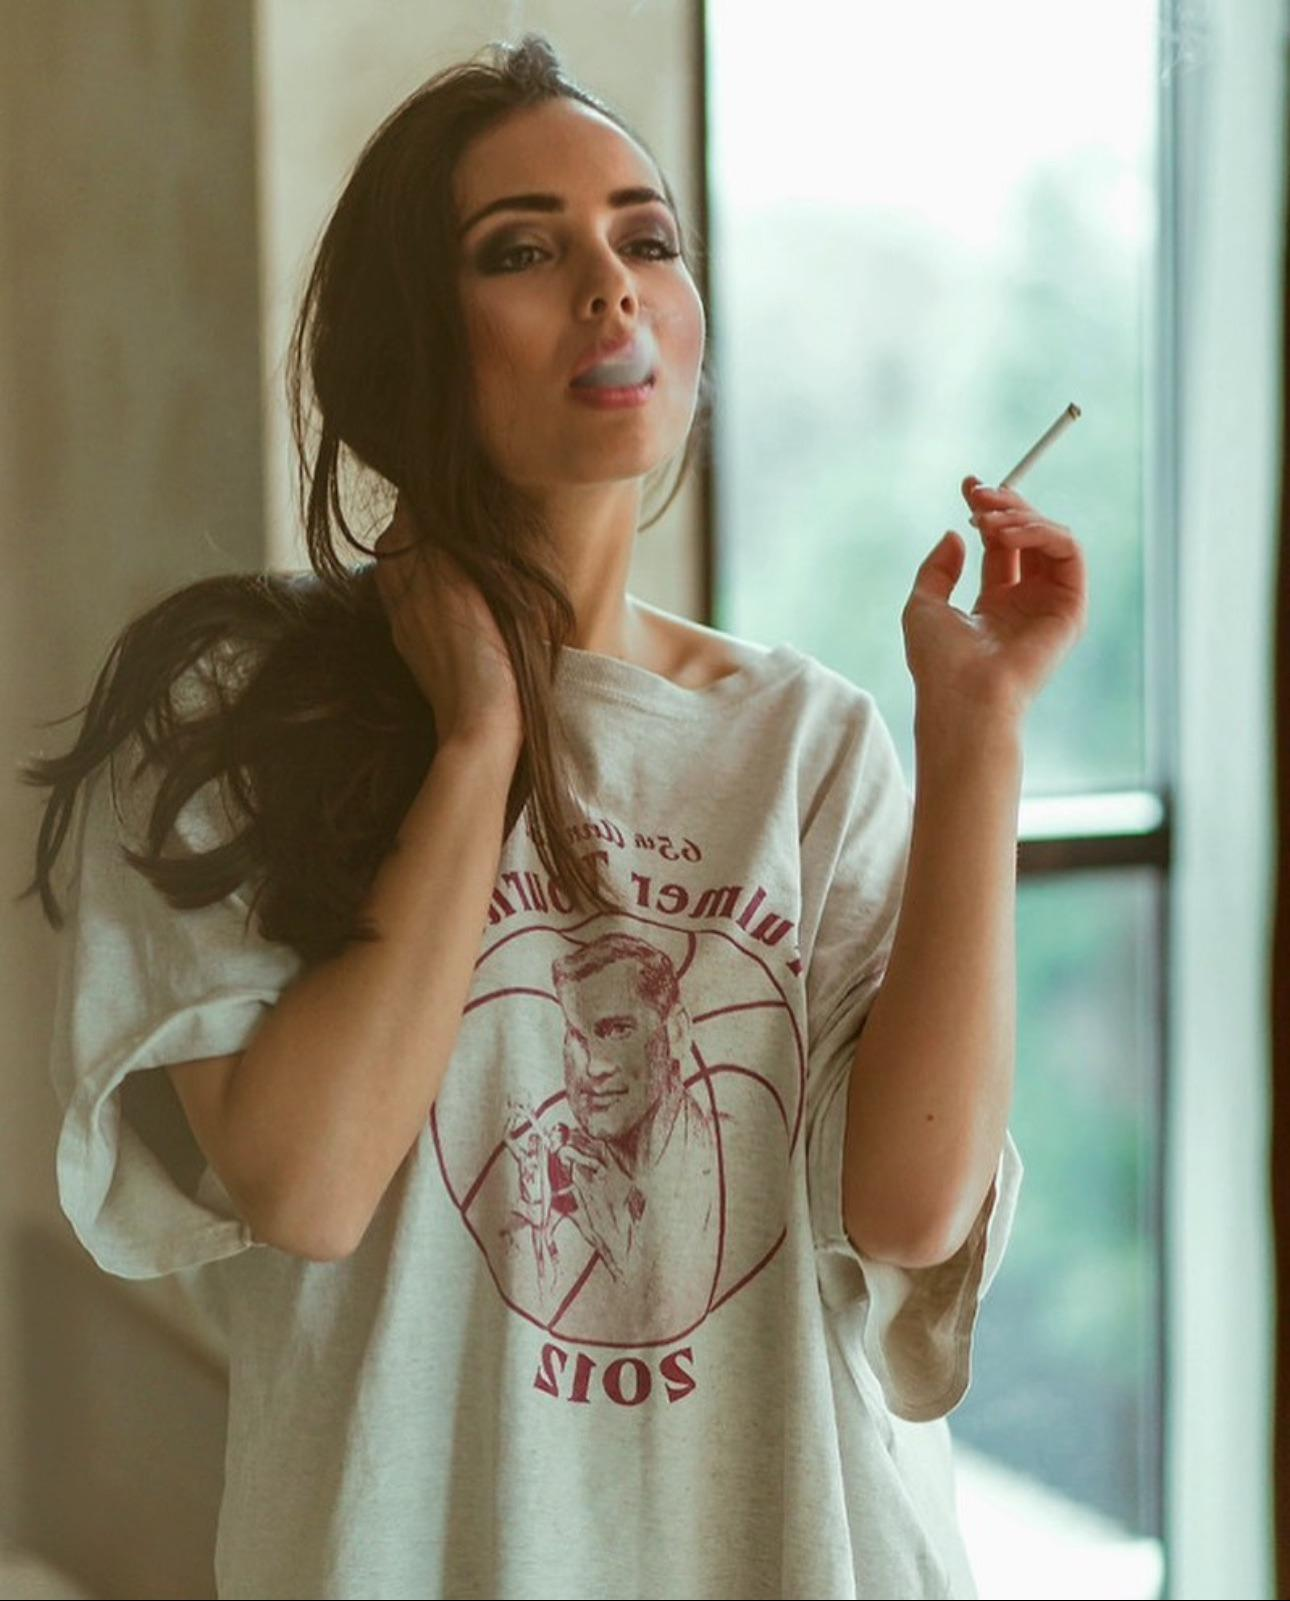cigarette: (1000, 403, 1082, 486)
